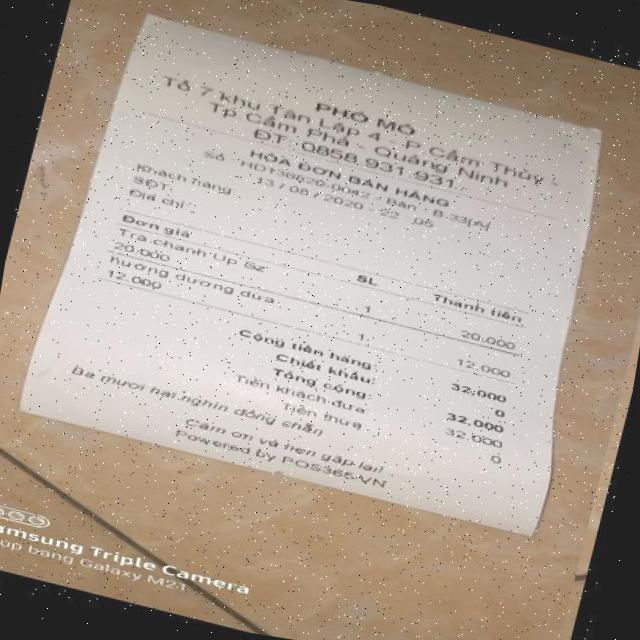Date: (251, 174, 367, 213)
Store_Name: (304, 92, 429, 142)
amount_number: (440, 406, 508, 434)
label_total: (266, 364, 372, 402)
